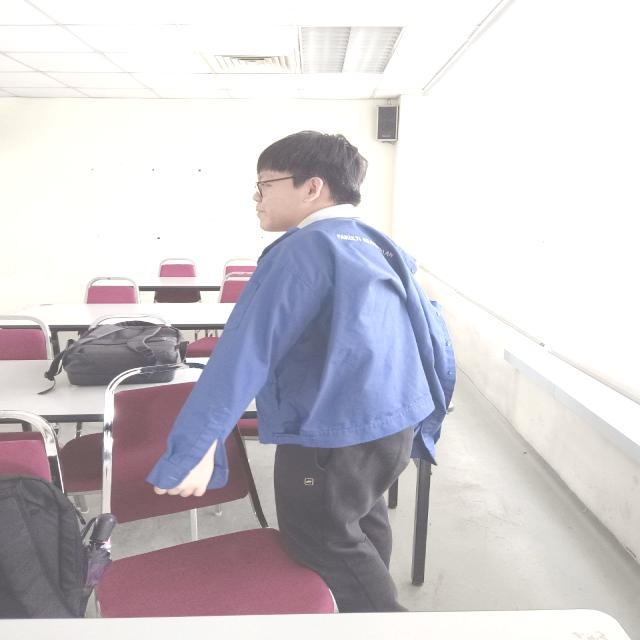person_without_labcoat: (148, 131, 455, 612)
